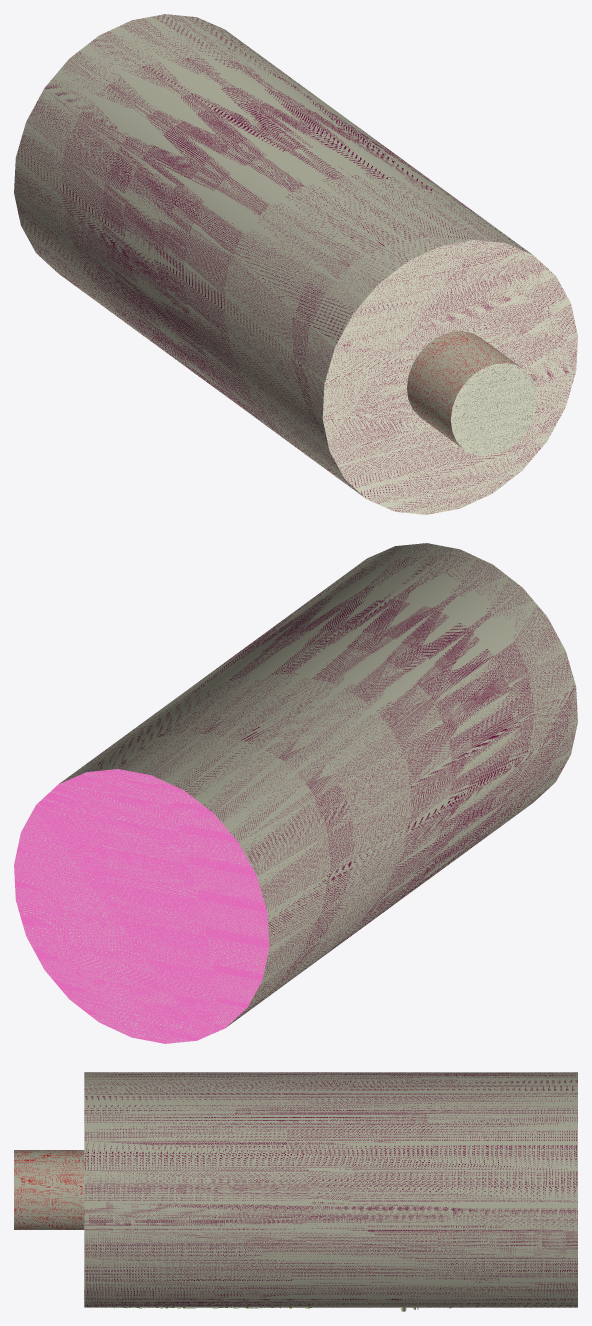
Rendered from model_align.obj.
3 renders of one model, top to bottom at view 1: azimuth 30°, elevation 25°; view 2: azimuth 150°, elevation 25°; view 3: azimuth 270°, elevation 25°, orthographic. The views are drawn at different scales.
Parts seen in each view (by area): view 1: mesh23_mesh23-geometry; view 2: mesh23_mesh23-geometry; view 3: mesh23_mesh23-geometry.
Boxes of the visible parts, <box> form: mesh23_mesh23-geometry: <box>14,14,577,514</box>; mesh23_mesh23-geometry: <box>14,543,577,1043</box>; mesh23_mesh23-geometry: <box>14,1072,577,1311</box>.
Bounding box in the file's own units: 0.085 × 0.0865 × 0.2033.
